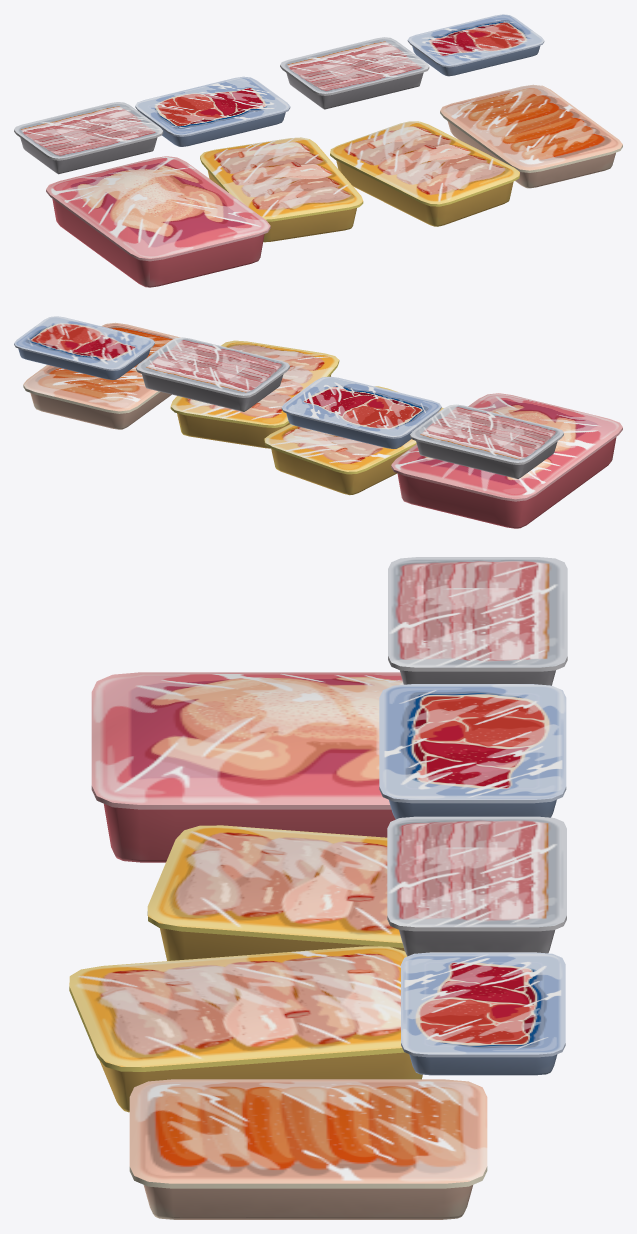
Rendered from CommFoodStuffs02_3.FBX.
3 renders of one model, top to bottom at view 1: azimuth 30°, elevation 25°; view 2: azimuth 150°, elevation 25°; view 3: azimuth 270°, elevation 25°, orthographic. The views are drawn at different scales.
Visible parts, largest first — view 1: CommFoodStuffs02_3; view 2: CommFoodStuffs02_3; view 3: CommFoodStuffs02_3.
Part boxes in pixels (x1,y1,x2,y2): CommFoodStuffs02_3: (14,14,622,287); CommFoodStuffs02_3: (14,316,622,528); CommFoodStuffs02_3: (69,557,567,1219).
Size of what is drawn, in the model's own units: 1.46 by 0.2418 by 0.6191.
